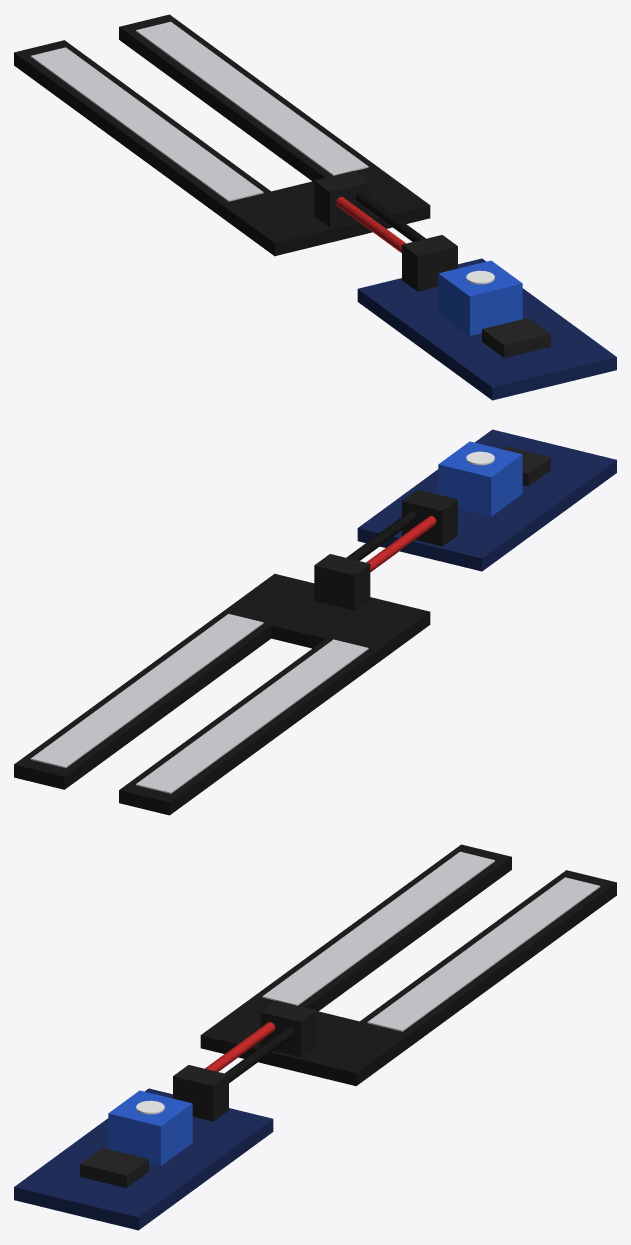
The model's file is gridie-humedad.glb.
The picture shows the model from 3 angles, top to bottom: view 1: azimuth 30°, elevation 25°; view 2: azimuth 150°, elevation 25°; view 3: azimuth 330°, elevation 25°; orthographic projection.
Size of the model in its own units: 0.02 by 0.00666 by 0.103.
